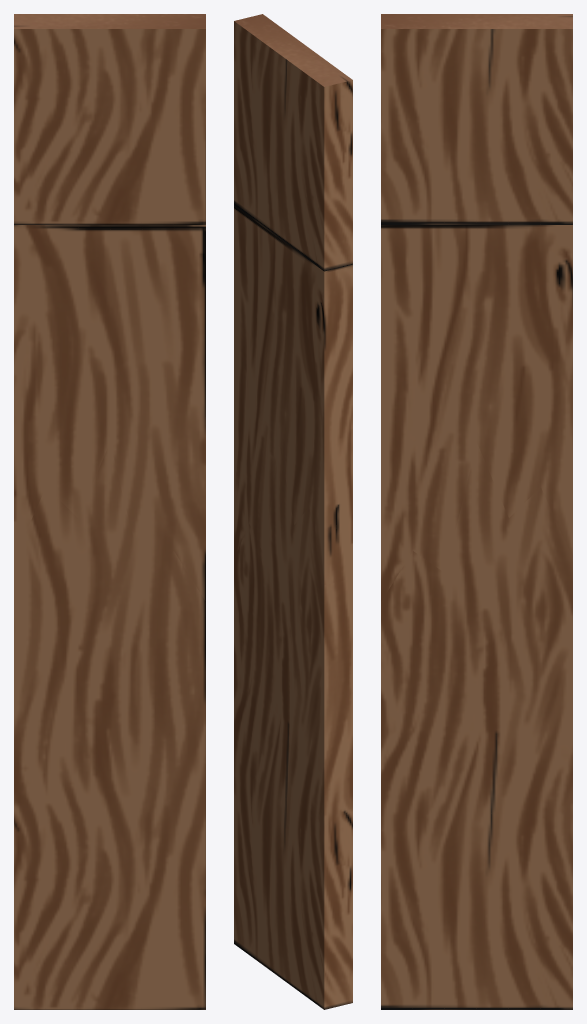
File: Tabla rota a la mitad.fbx
The picture shows the model from 3 angles, left to right: view 1: azimuth 90°, elevation 25°; view 2: azimuth 210°, elevation 25°; view 3: azimuth 270°, elevation 25°; orthographic projection. The views are drawn at different scales.
Parts seen in each view (by area): view 1: Cube.054, Cube.053; view 2: Cube.054, Cube.053; view 3: Cube.054, Cube.053.
Part boxes in pixels (x1,y1,x2,y2): Cube.054: (14,14,205,601); Cube.053: (14,443,205,1009); Cube.054: (234,14,352,585); Cube.053: (234,443,352,1009); Cube.054: (381,14,572,601); Cube.053: (381,443,572,1009).
Bounding box in the file's own units: 2.76 × 84.83 × 15.03.
1 material, 1 textured.
